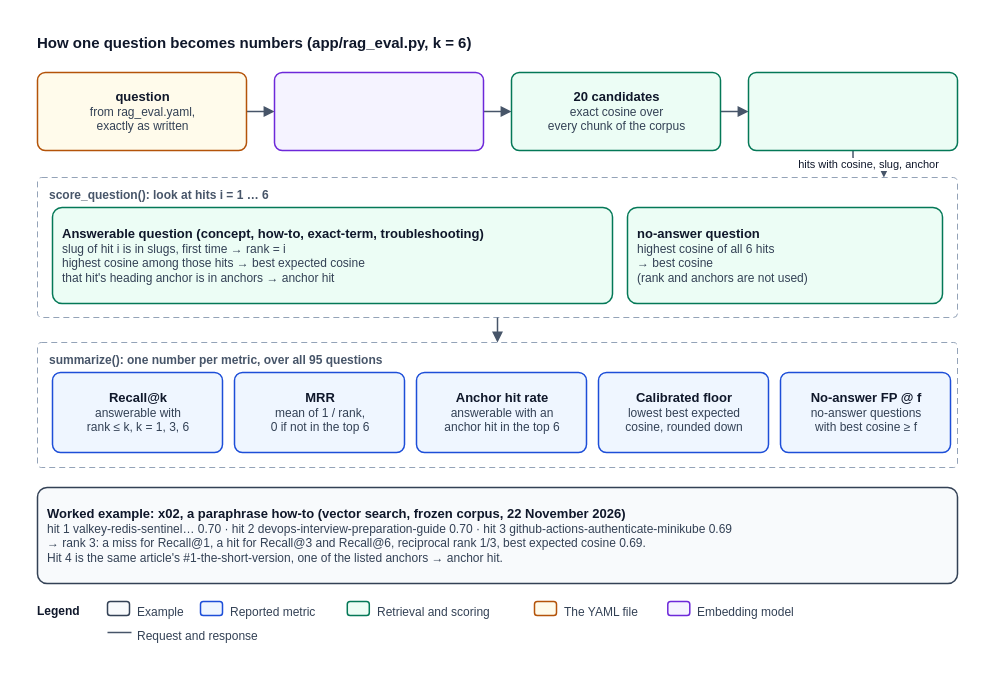
The diagram is 994 pixels wide and 674 high, and some of its shapes have lost their labels. Each missing label, with the centre of its shape:
"embed bge-small ONNX + its query prefix (production)" belongs at point (378, 111).
"top 6 hits at most 3 chunks per article, code windows merged" belongs at point (852, 111).
